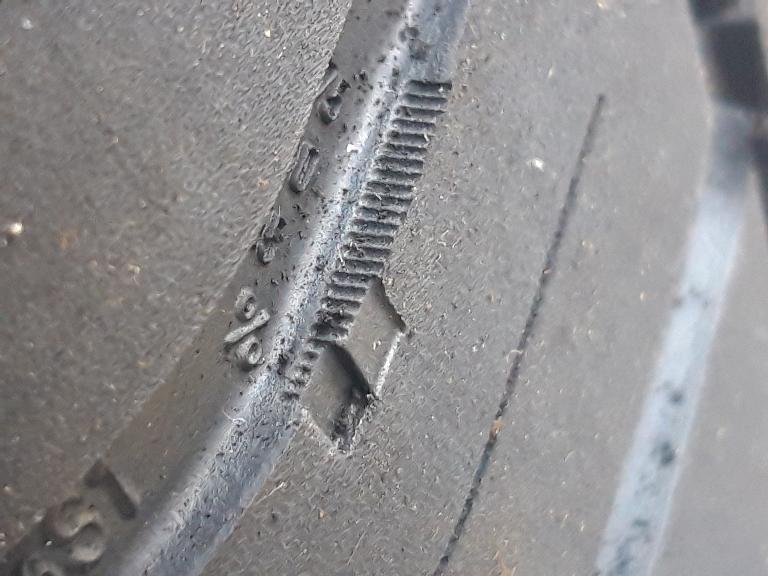temoin:25: (264, 259, 424, 468)
